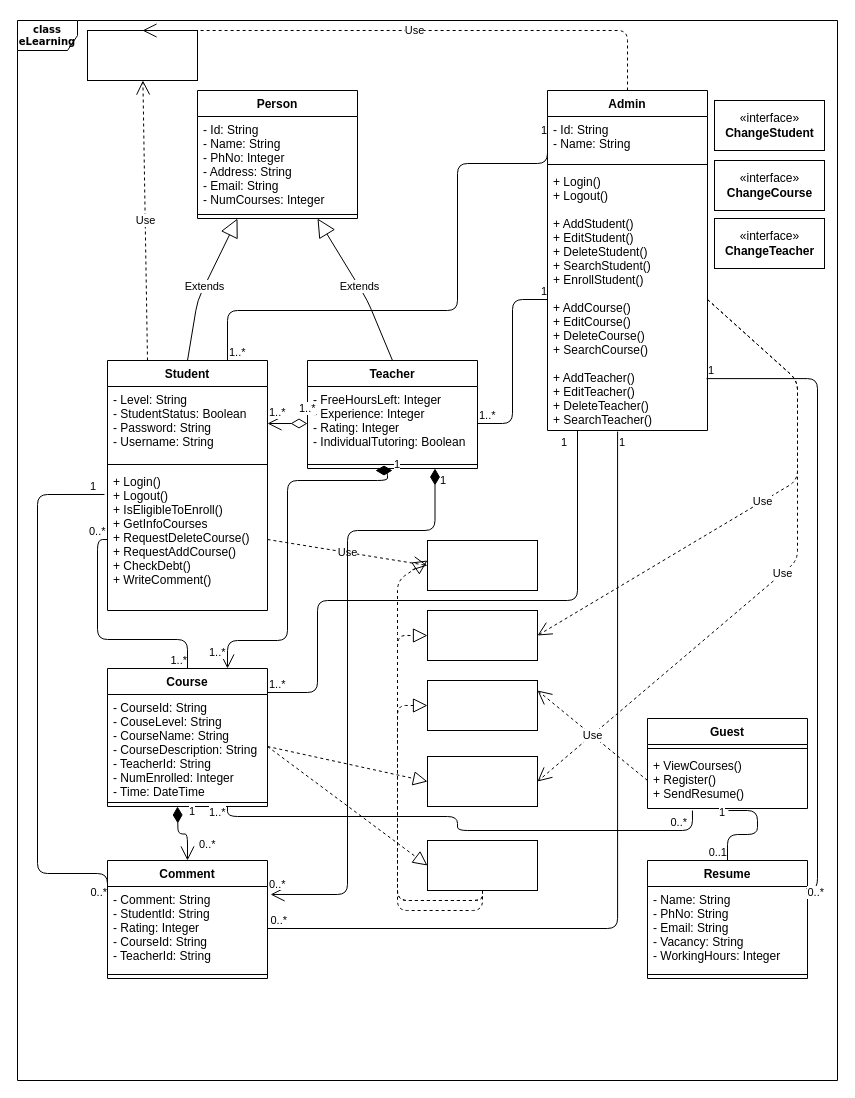
Some shapes in this 855 by 1098 pixel diagram are drawn without their labels. The shapes that lost their labels are listed below. From the top down, each one's centre as x and y in pixels, then its label:
pixel 142 55: «interface» LogInOut
pixel 482 565: «interface» ViewStudent
pixel 482 635: «interface» ViewAdmin
pixel 482 705: «interface» ViewGuest
pixel 482 781: «interface» Edit
pixel 482 865: «interface» View
